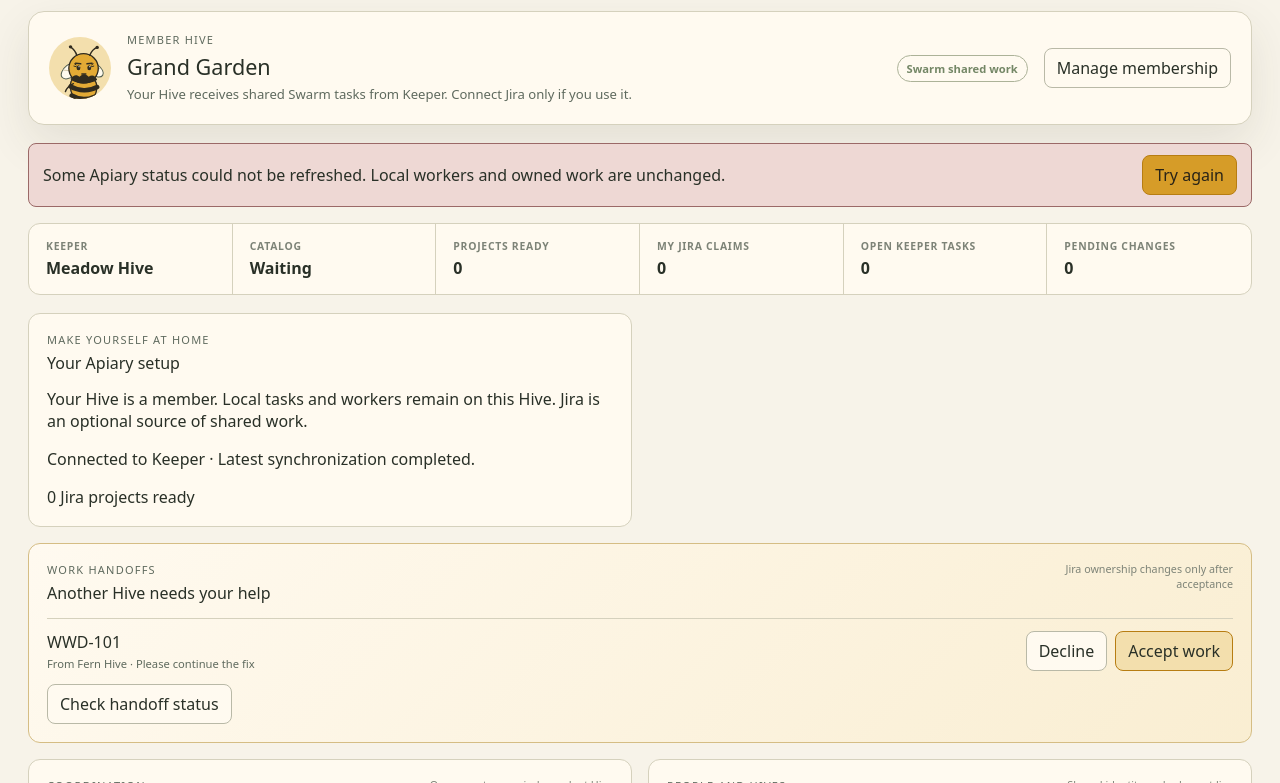
Scenario: reconciles an uncertain acceptance before allowing another action
Click the button "Accept work" at (1174, 651), box [1115,631,1233,671]
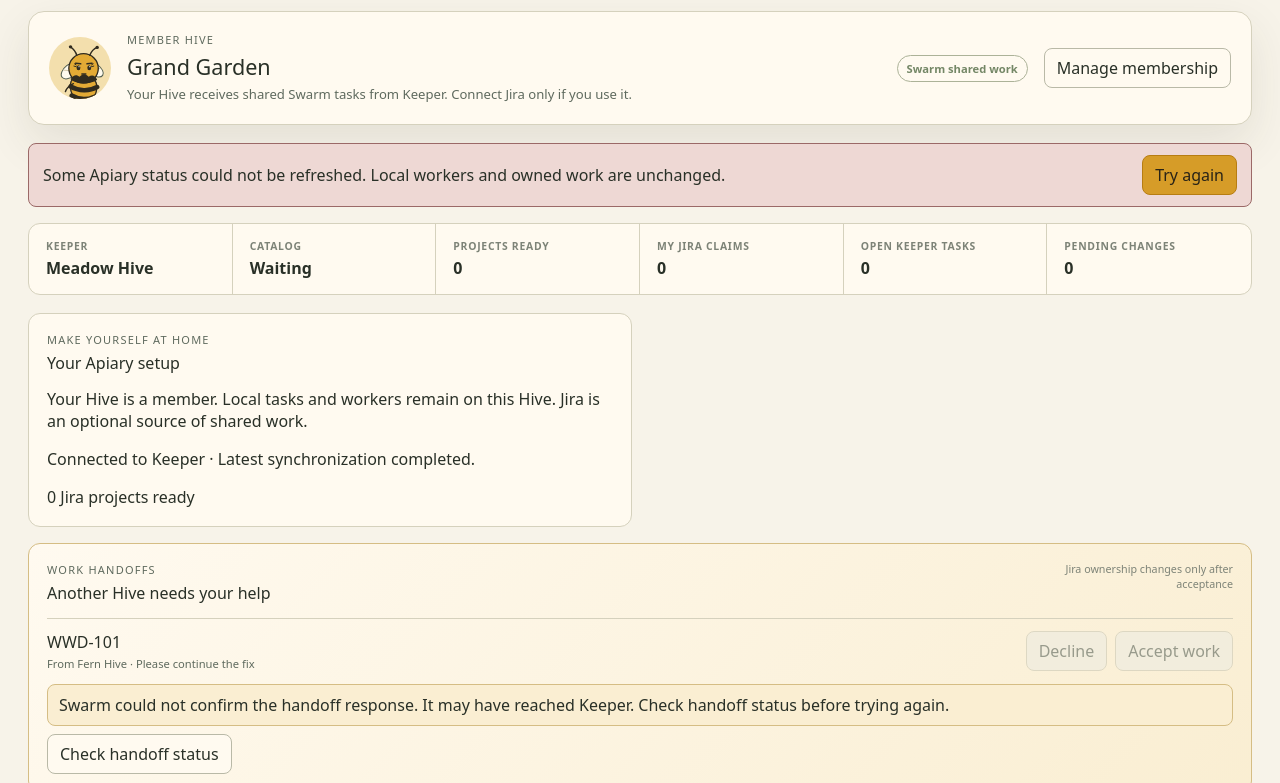
Expected: the list named "Active Jira work handoffs" shows "WWD-101", [47,631,121,653]
Now the button "Accept work" is disabled, box [1115,631,1233,671]
Click the button "Check handoff status" at (139, 754), box [47,734,232,774]
(page scrolled)
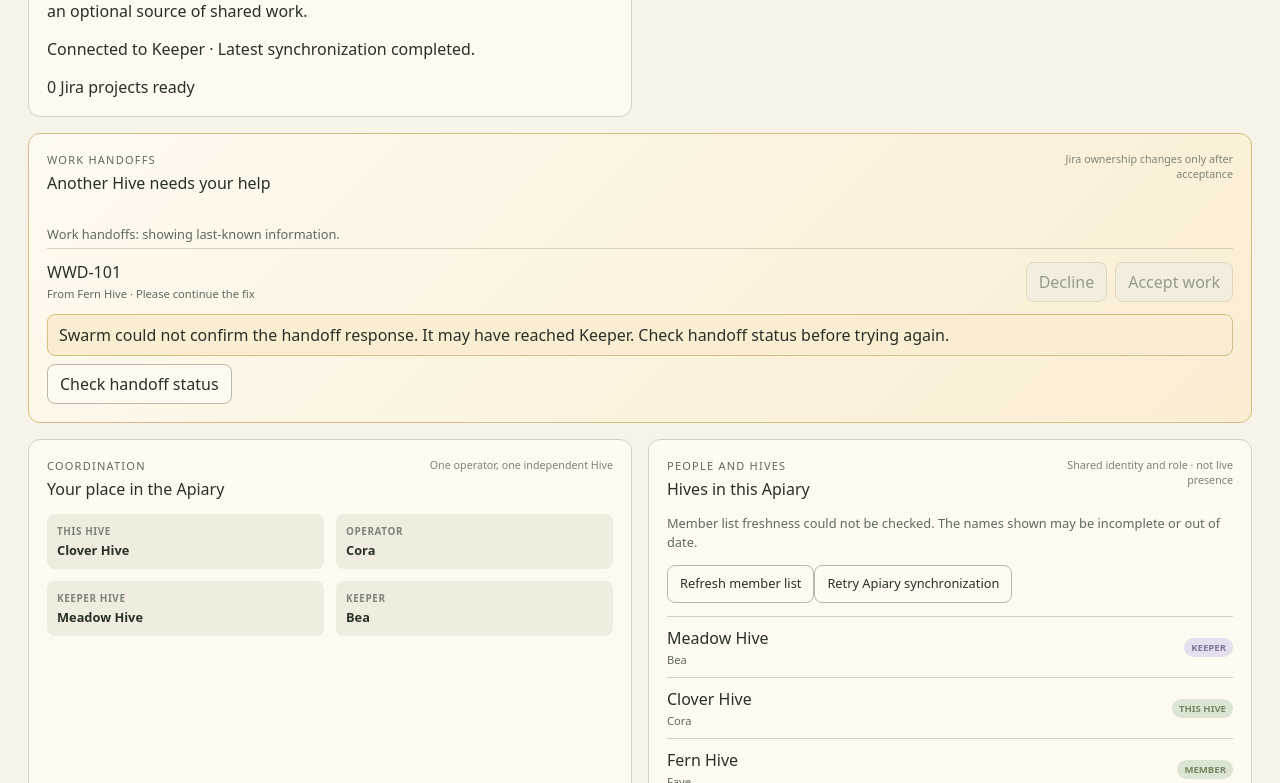
Now the button "Accept work" is disabled, box [1115,262,1233,302]
Now the text "Work handoffs: showing last-known information." is shown, box [47,225,340,243]
Click the button "Check handoff status" at (139, 384), box [47,364,232,404]
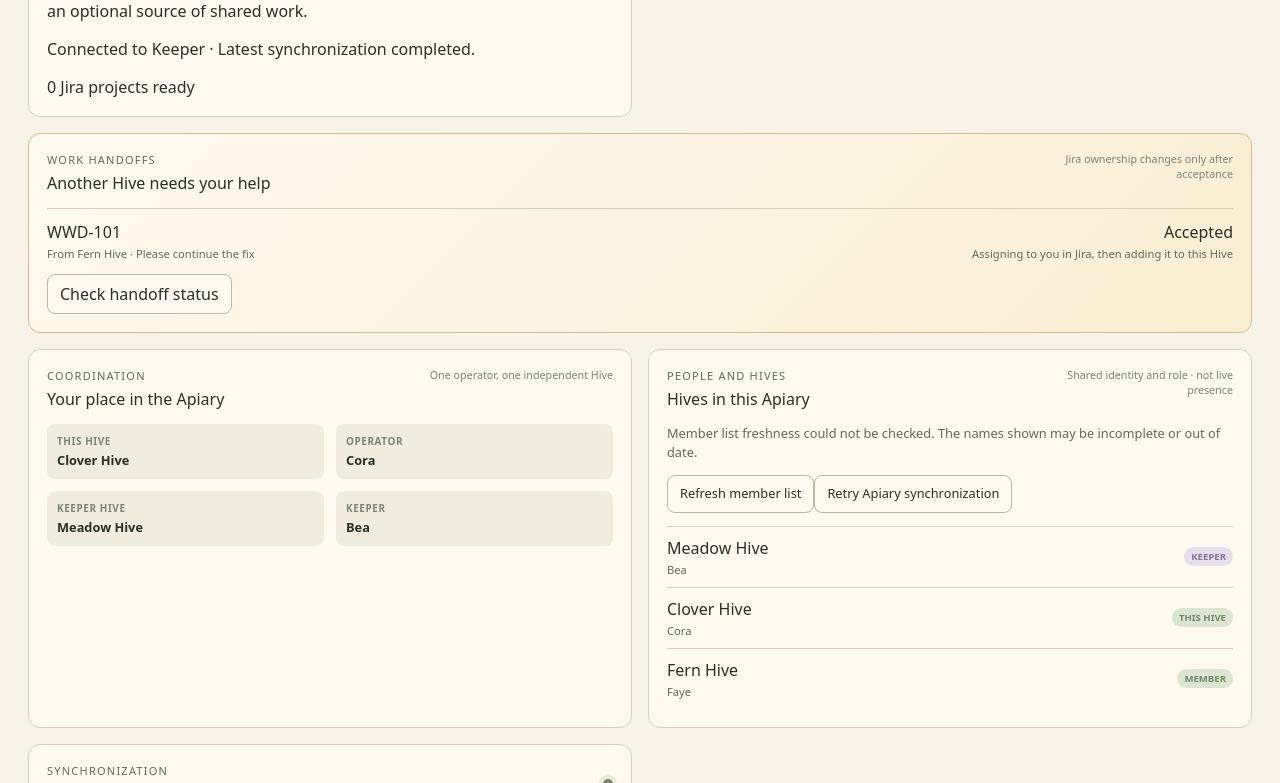
Now the text "Assigning to you in Jira, then adding it to this Hive" is shown, box [972,246,1233,262]
Now the button "Accept work" is gone
Now the text "Swarm could not confirm the handoff response" is gone
